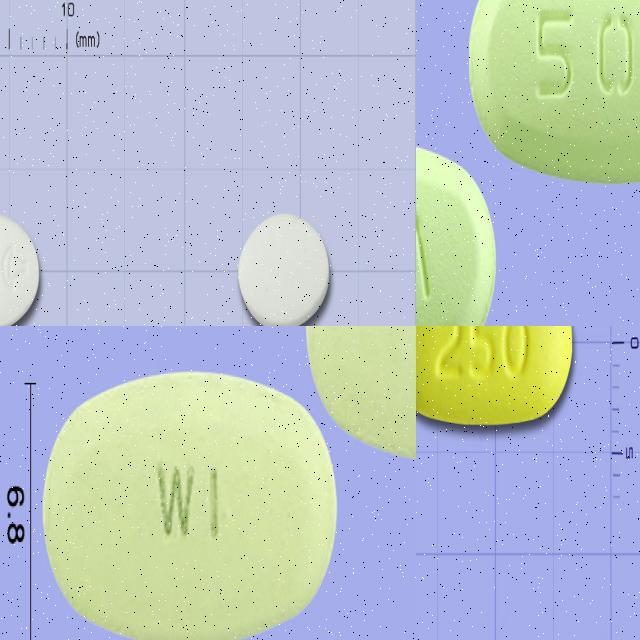CLARITYNE: (236, 206, 332, 326), (0, 203, 44, 326)
Clar: (466, 0, 640, 185), (416, 131, 500, 326)
Clarione -500mg: (416, 326, 576, 432)
Clathron - 500mg: (40, 367, 339, 640)
